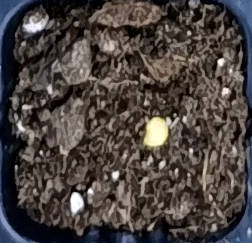pepper seed: (58, 42, 228, 190)
